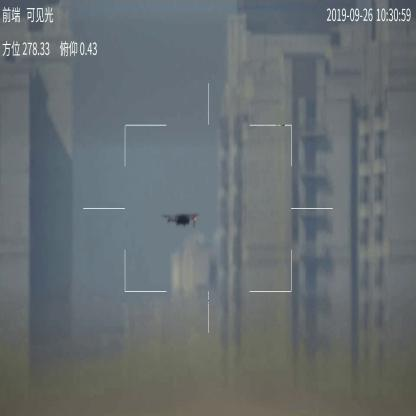uav: (162, 212, 201, 229)
